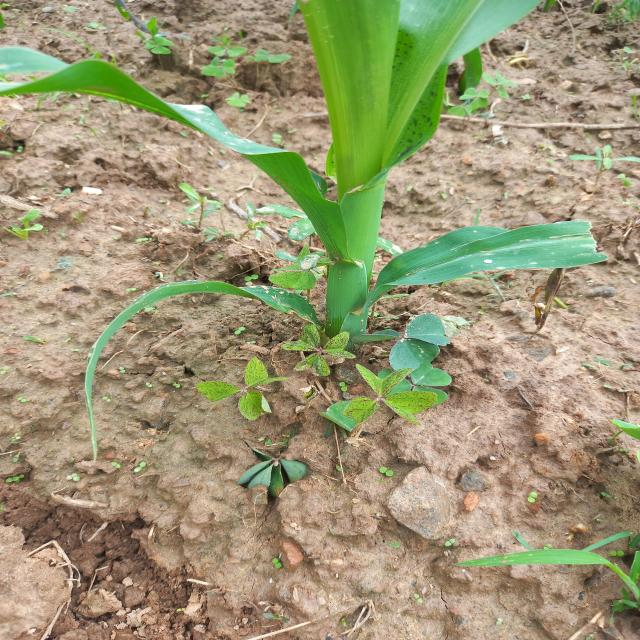maize: (9, 11, 608, 344), (493, 531, 640, 627)
weed: (192, 351, 382, 446), (134, 13, 286, 94), (378, 329, 469, 442)
